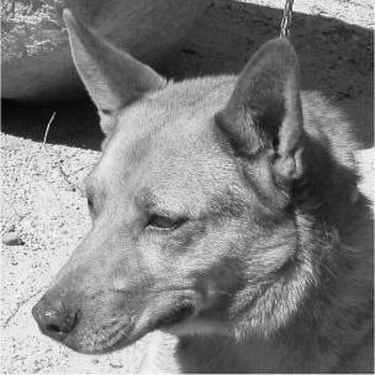dog: (27, 3, 370, 371)
